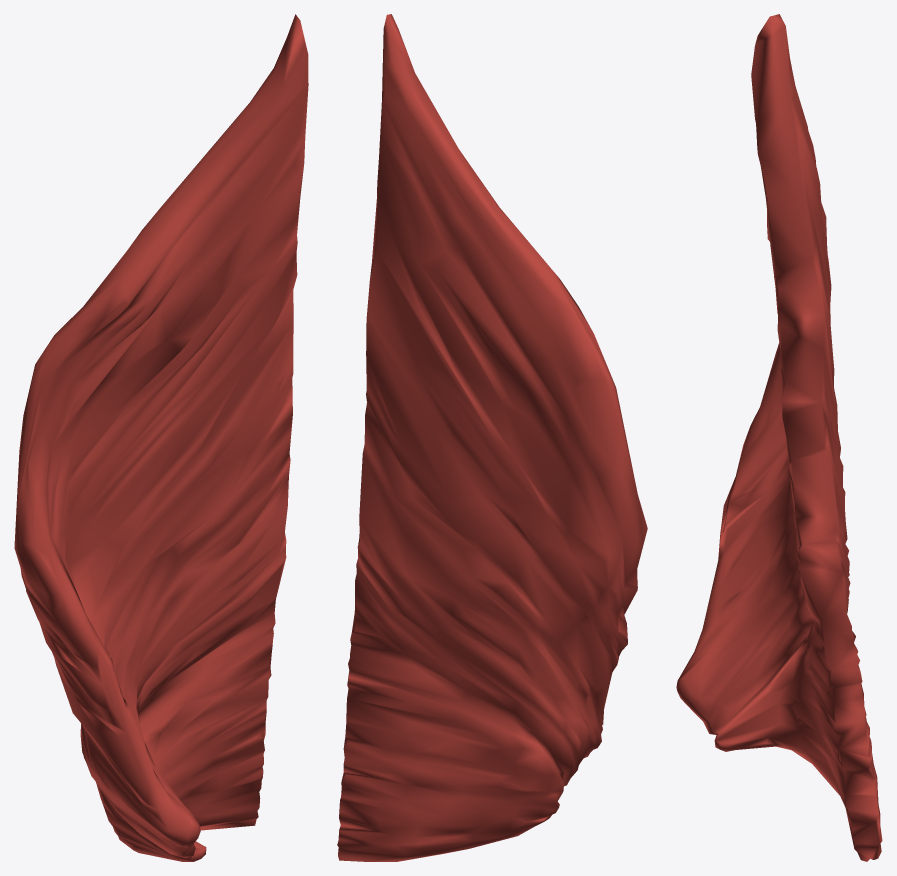
The model's file is musculos-inferior-pharyngeal-constrictor-r.glb.
3 views of the same model, side by side, from view 1: azimuth 30°, elevation 25°; view 2: azimuth 150°, elevation 25°; view 3: azimuth 270°, elevation 25° (orthographic). The views are drawn at different scales.
Parts seen in each view (by area): view 1: Inferior pharyngeal constrictor.r; view 2: Inferior pharyngeal constrictor.r; view 3: Inferior pharyngeal constrictor.r.
Part boxes in pixels (x1,y1,x2,y2): Inferior pharyngeal constrictor.r: [14, 14, 308, 861]; Inferior pharyngeal constrictor.r: [337, 14, 647, 861]; Inferior pharyngeal constrictor.r: [676, 14, 882, 861].
Bounding box in the file's own units: 0.022 × 0.0651 × 0.0143.
